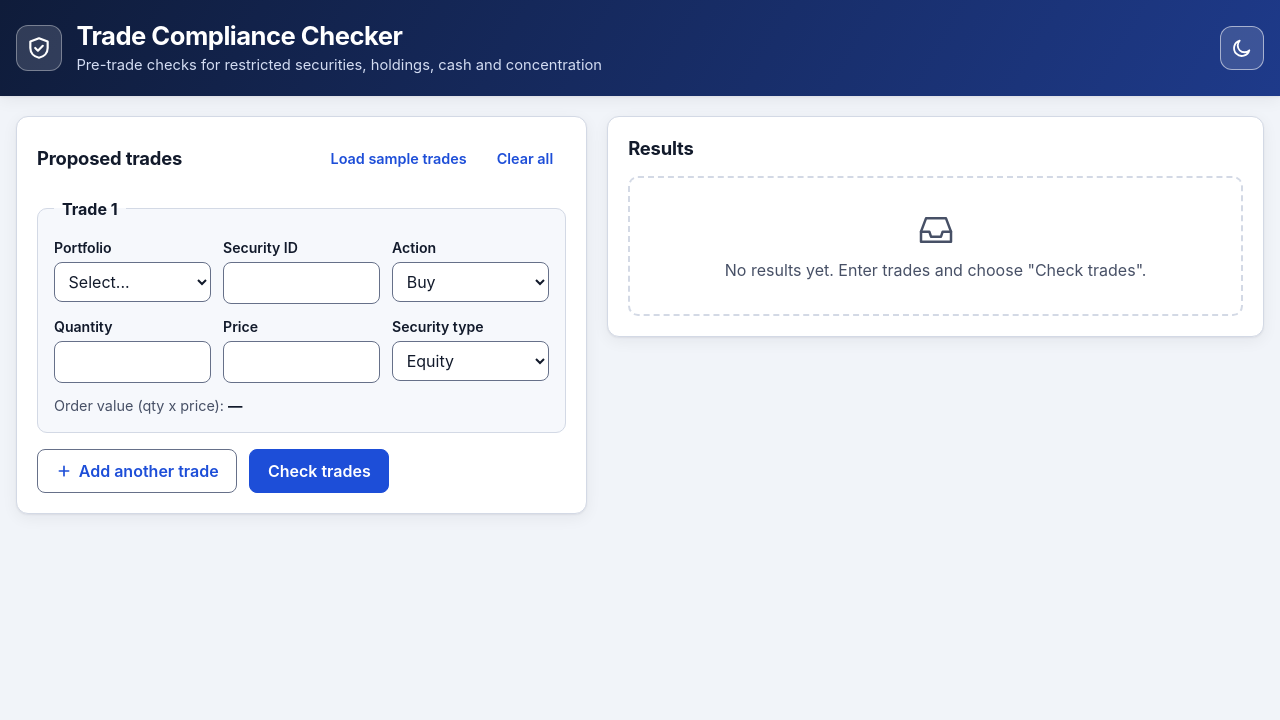
Test: form validation › quantity_0_isBlockedClientSide
Select "POR001" in the dropdown labelled "Portfolio" at (132,282), box [54, 262, 211, 302]
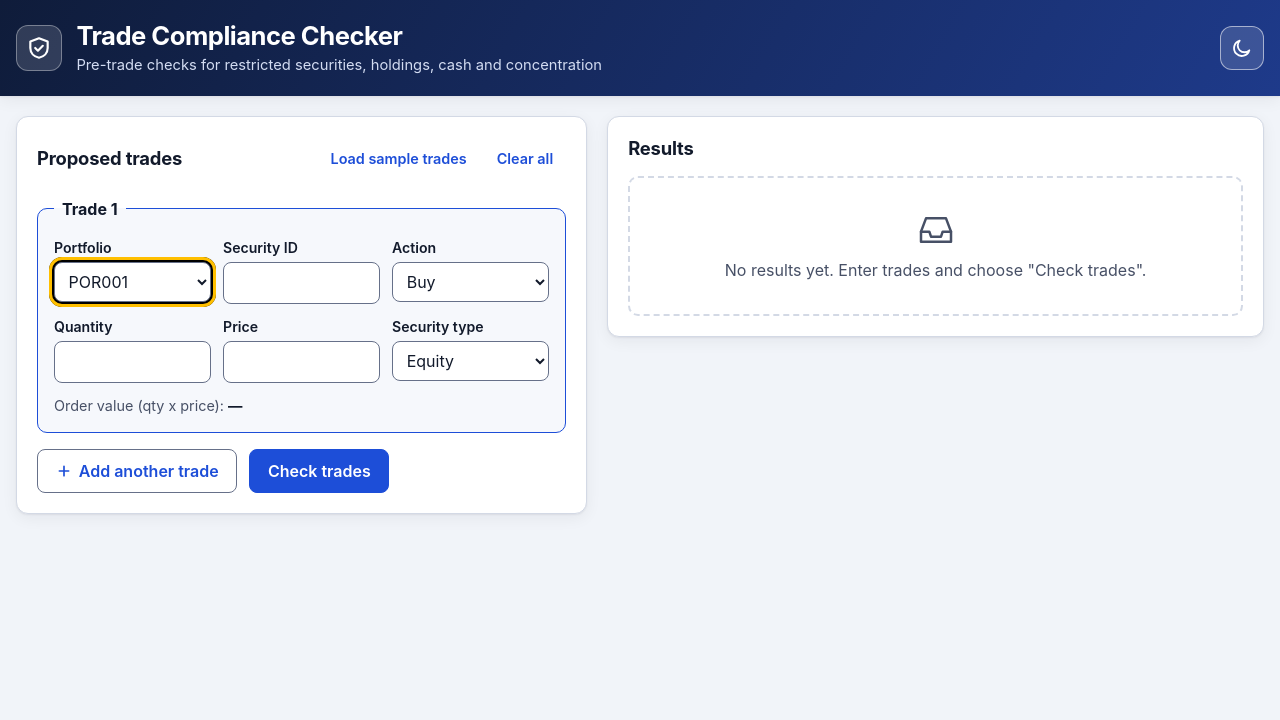
Type "TCS" into the field labelled "Security ID" at (302,283), box [223, 262, 380, 304]
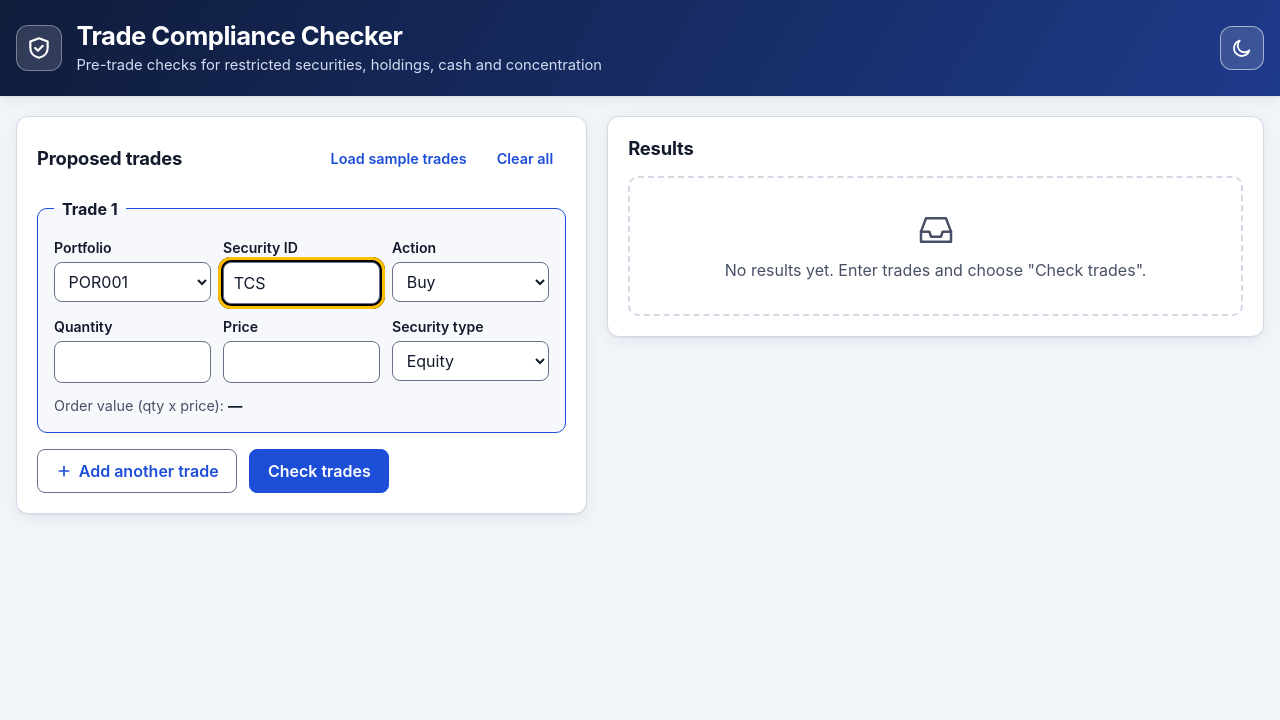
Type "0" into the number field labelled "Quantity" at (132,362), box [54, 341, 211, 383]
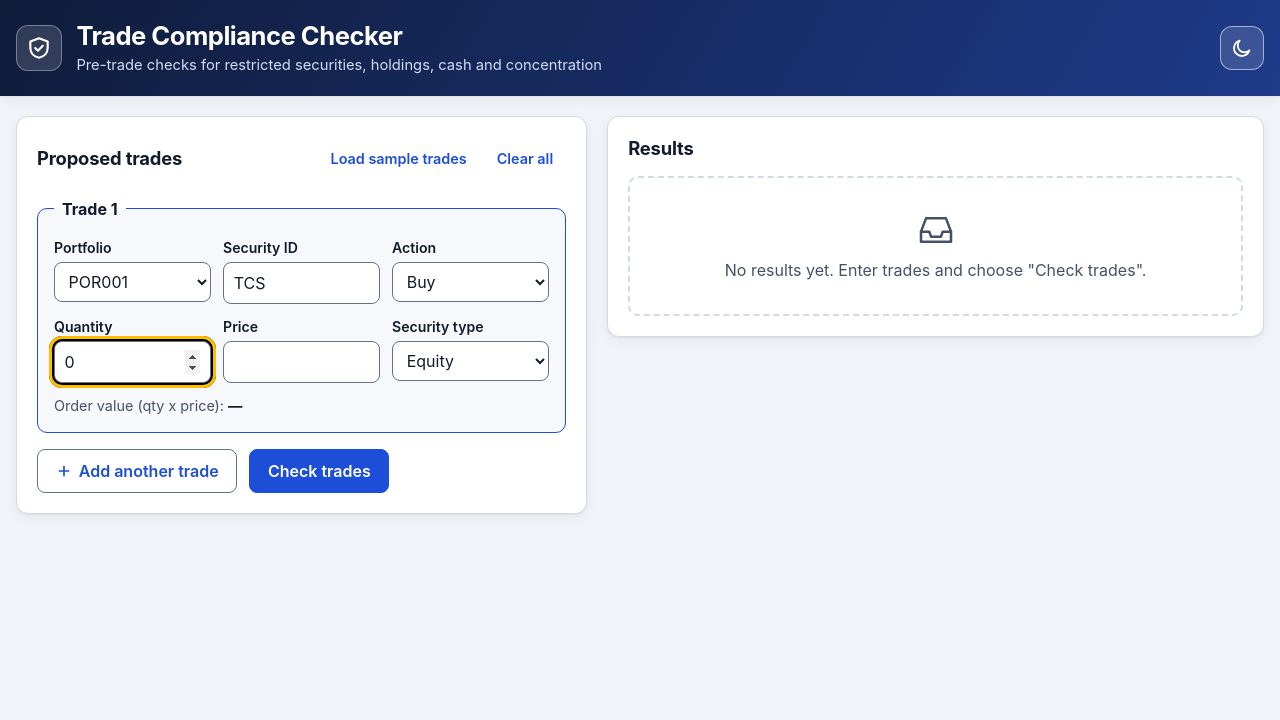
Type "300" into the number field labelled "Price" at (302,362), box [223, 341, 380, 383]
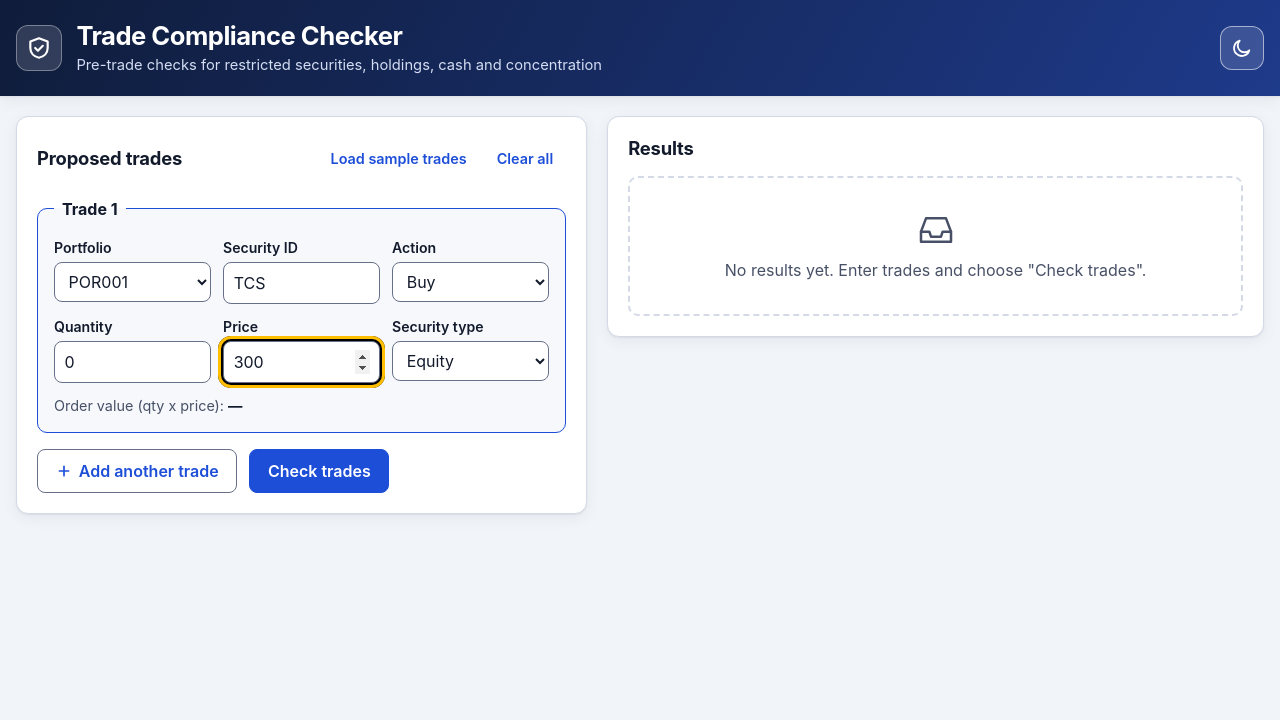
Click the button "Check trades" at (319,472), box [249, 450, 389, 494]
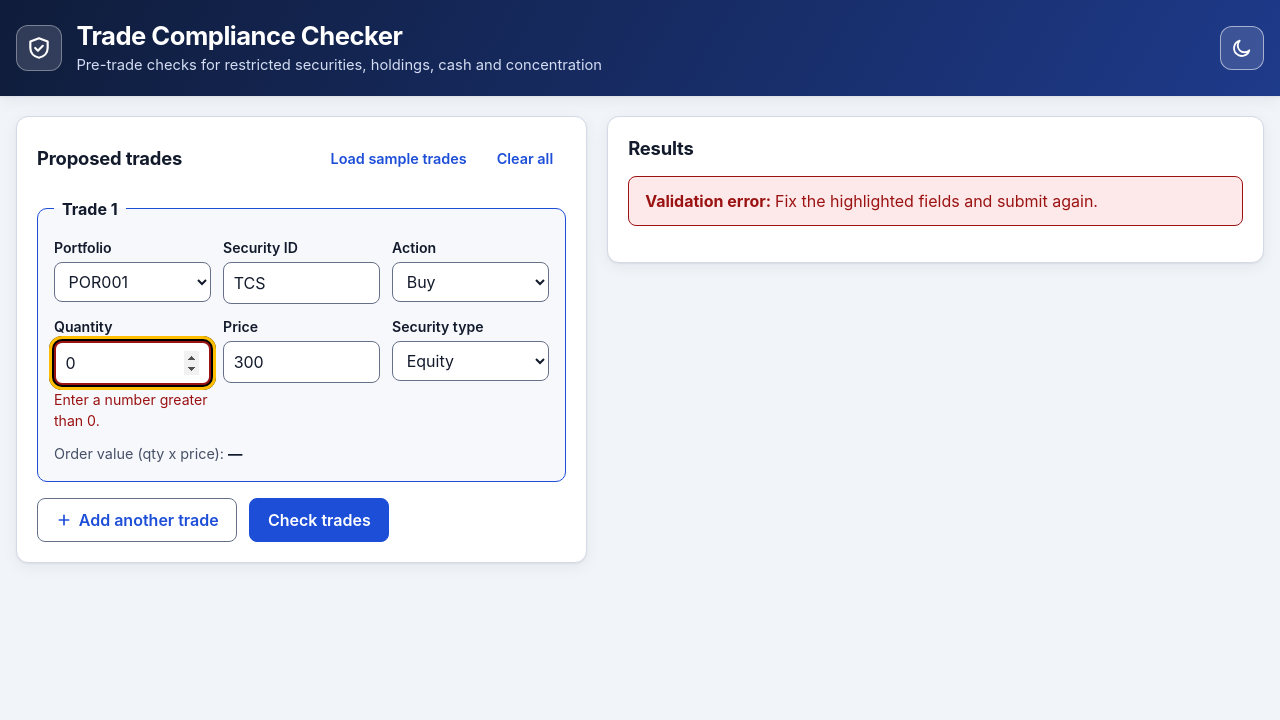
Expected: the text "Enter a number greater than 0." is shown, [54, 389, 211, 431]
